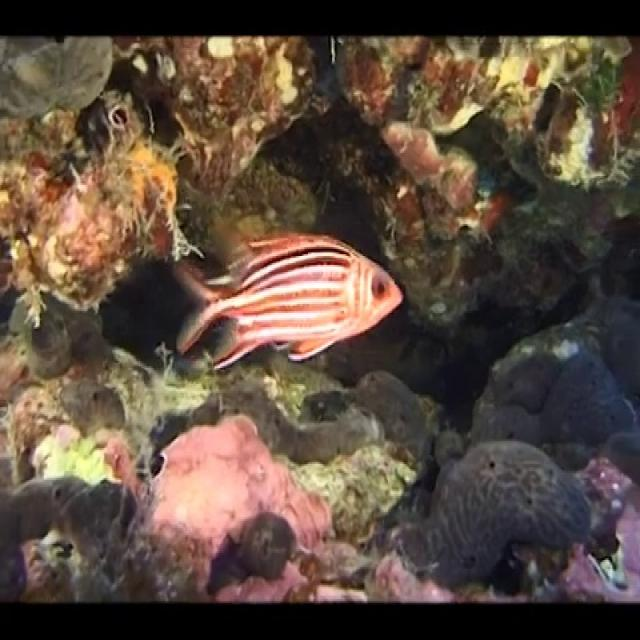Asker Baligi: (170, 228, 406, 374)
